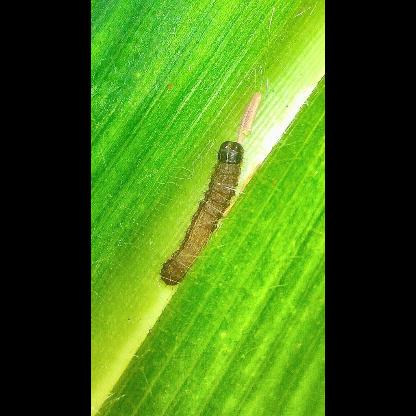Fall Armyworm Larvae: (155, 136, 249, 292)
